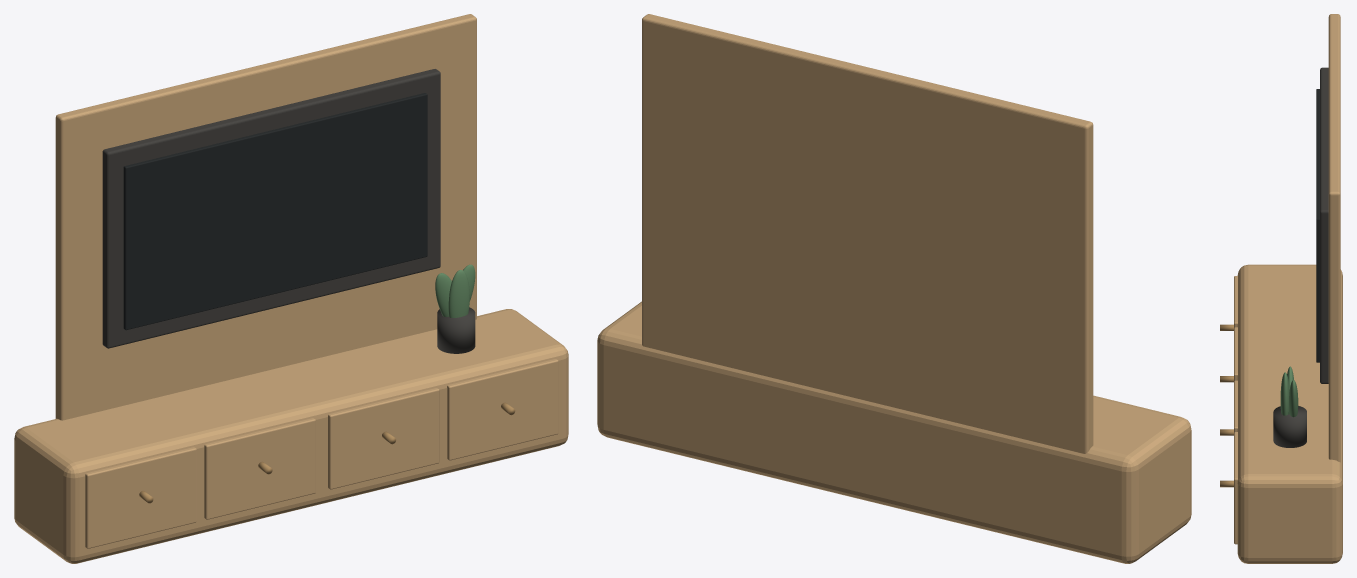
Rendered from tv-console.glb.
3 views of the same model, side by side, from view 1: azimuth 30°, elevation 25°; view 2: azimuth 150°, elevation 25°; view 3: azimuth 270°, elevation 25° (orthographic). The views are drawn at different scales.
Parts seen in each view (by area): view 1: ACCENT oak media panel, ACCENT television inset, CANONICAL case, ACCENT television, CANONICAL front 2, CANONICAL front 1, CANONICAL front 3, CANONICAL front 4, ACCENT planter, ACCENT leaf.002; view 2: ACCENT oak media panel, CANONICAL case; view 3: CANONICAL case, ACCENT oak media panel, ACCENT television, ACCENT planter, ACCENT television inset, CANONICAL front 4, ACCENT leaf.002, ACCENT leaf.001, CANONICAL front 2, CANONICAL front 1, CANONICAL front 3.
Part boxes in pixels (x1,y1,x2,y2): ACCENT oak media panel: (55,14,476,420); ACCENT television inset: (123,93,427,330); CANONICAL case: (14,309,568,563); ACCENT television: (102,69,440,348); CANONICAL front 2: (204,418,315,519); CANONICAL front 1: (85,447,196,548); CANONICAL front 3: (328,388,439,489); CANONICAL front 4: (447,359,558,460); ACCENT planter: (437,307,475,353); ACCENT leaf.002: (448,270,469,317); ACCENT oak media panel: (642,14,1093,453); CANONICAL case: (597,301,1191,563); CANONICAL case: (1237,264,1342,563); ACCENT oak media panel: (1328,14,1340,462); ACCENT television: (1320,67,1328,383); ACCENT planter: (1273,406,1306,447); ACCENT television inset: (1316,89,1319,362); CANONICAL front 4: (1234,432,1237,544); ACCENT leaf.002: (1280,372,1289,415); ACCENT leaf.001: (1289,380,1298,417); CANONICAL front 2: (1234,327,1237,381); CANONICAL front 1: (1234,276,1237,327); CANONICAL front 3: (1234,380,1237,432).
Bounding box in the file's own units: 2.2 × 1.76 × 0.525.
